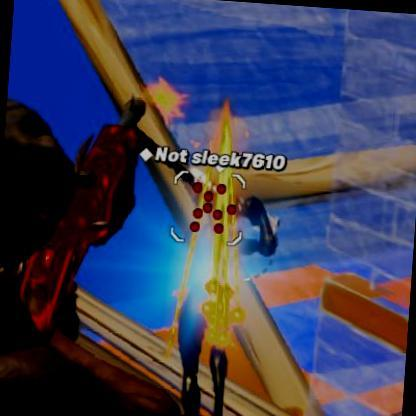person: (169, 177, 242, 396)
